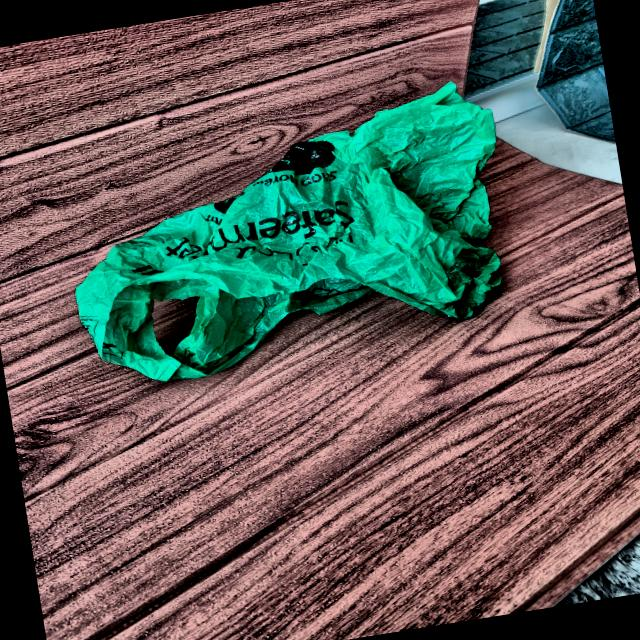plastic bag: (49, 74, 532, 397)
